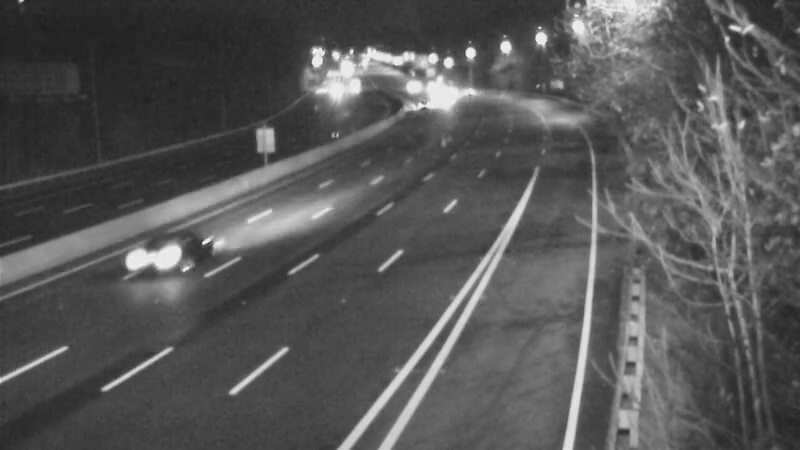vehicle: (114, 216, 194, 296), (383, 58, 433, 108), (441, 69, 491, 119), (414, 73, 464, 123), (399, 81, 449, 131), (310, 62, 360, 112)
